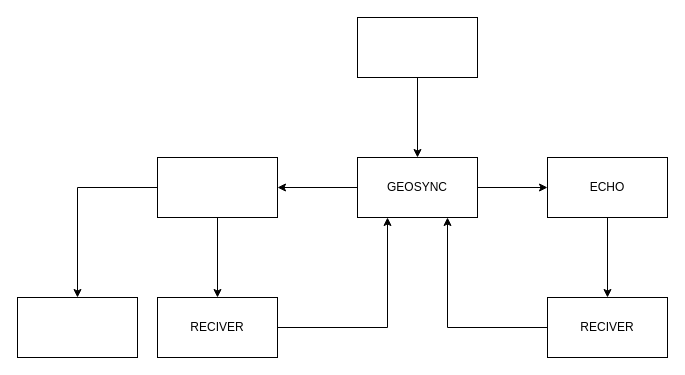
The diagram is 685 pixels wide and 375 high, and some of its shapes have lost their labels. The box of each missing label's shape, as (x1, y1, x2, y2) in pixels:
MAIN CONTROLLER: (356, 16, 478, 78)
TRACKON: (156, 156, 278, 218)
